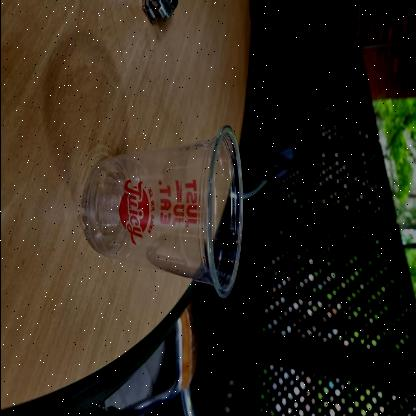Others: (77, 121, 247, 304)
